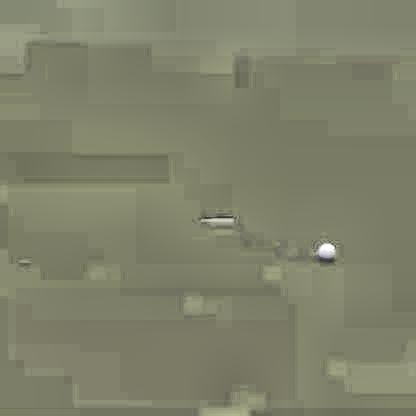golfball: (314, 240, 334, 260)
